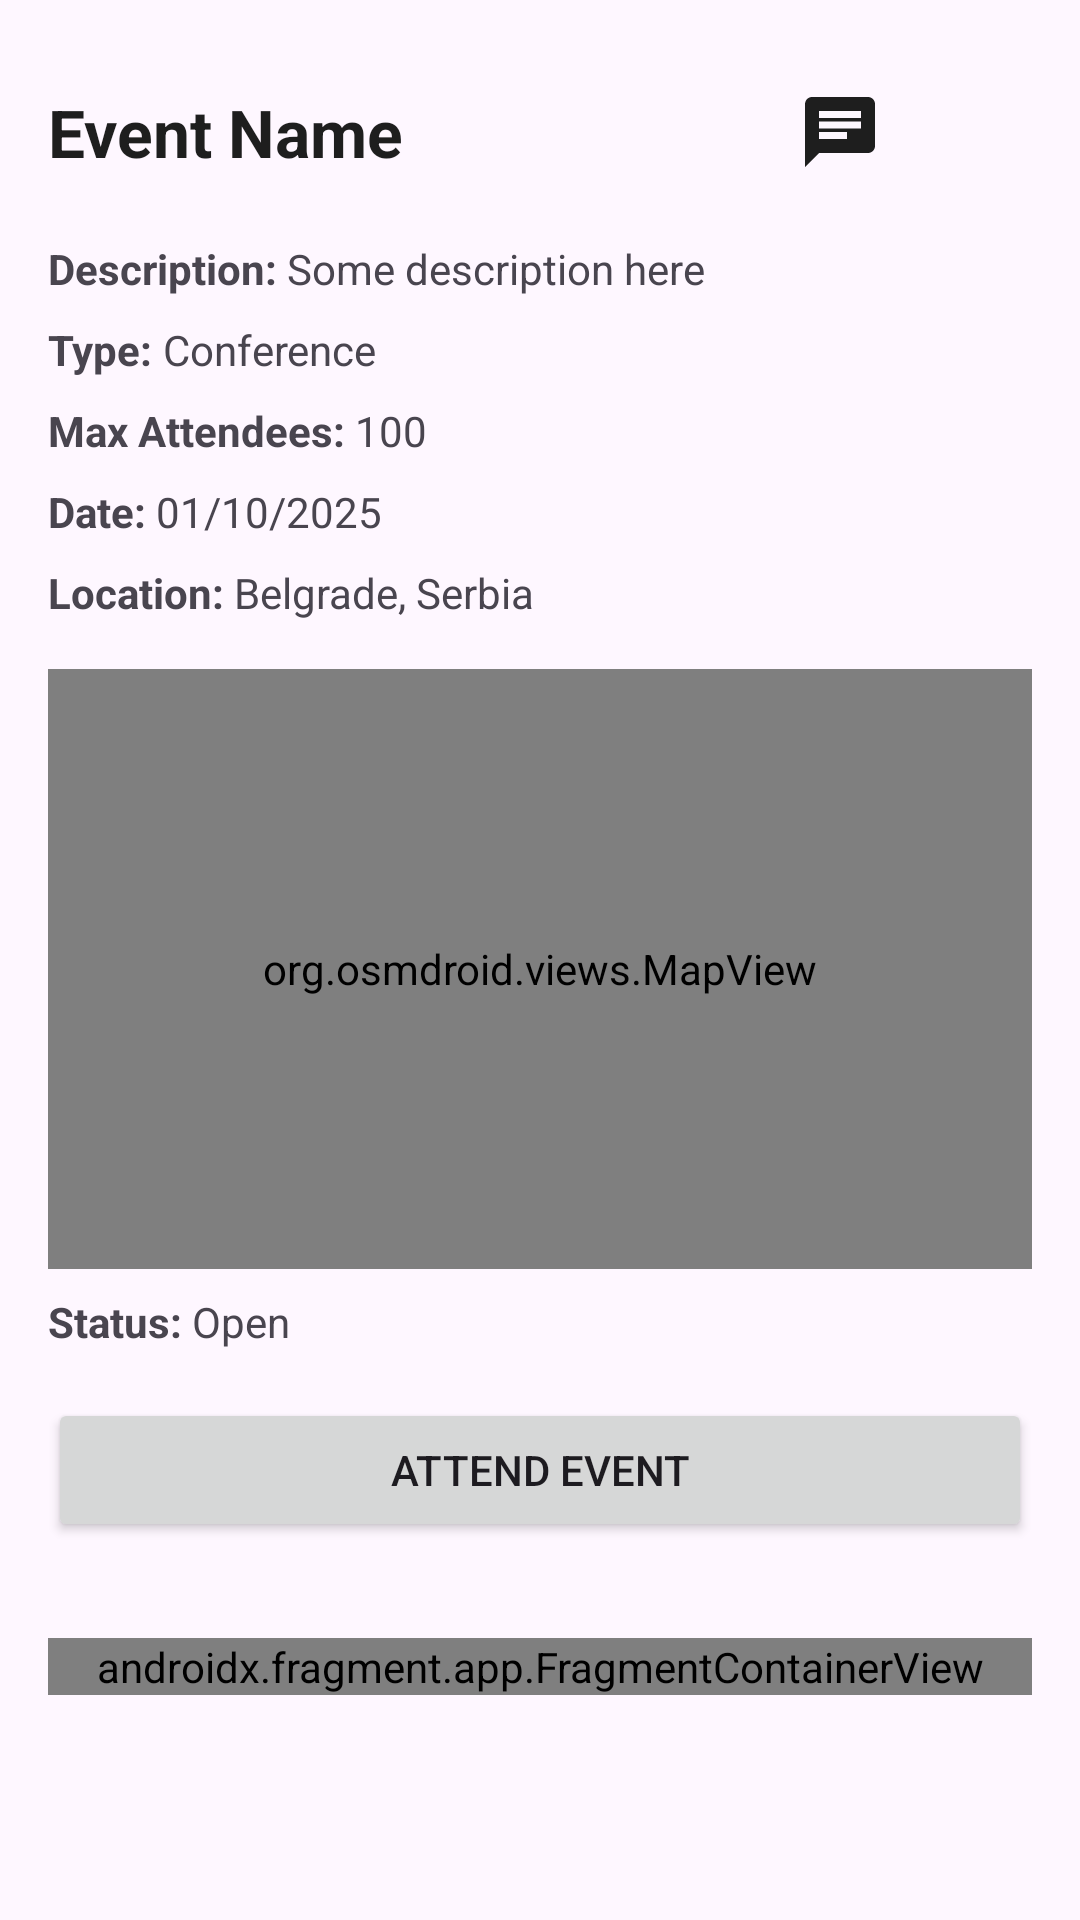

Locate icon controls on the screen. Image size 1080px×1920px, boxes as rect(x1, y1, x2, y2).
chat: rect(805, 97, 875, 167)
